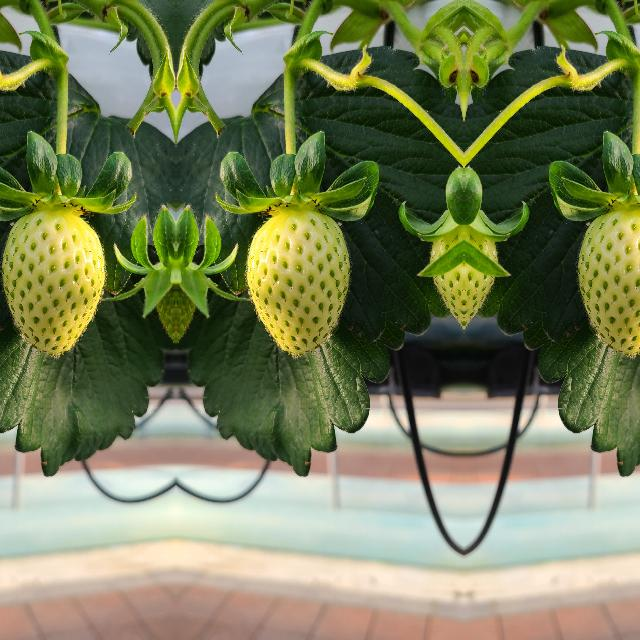Health_25: (246, 212, 350, 356), (0, 212, 104, 356), (576, 212, 640, 355)
